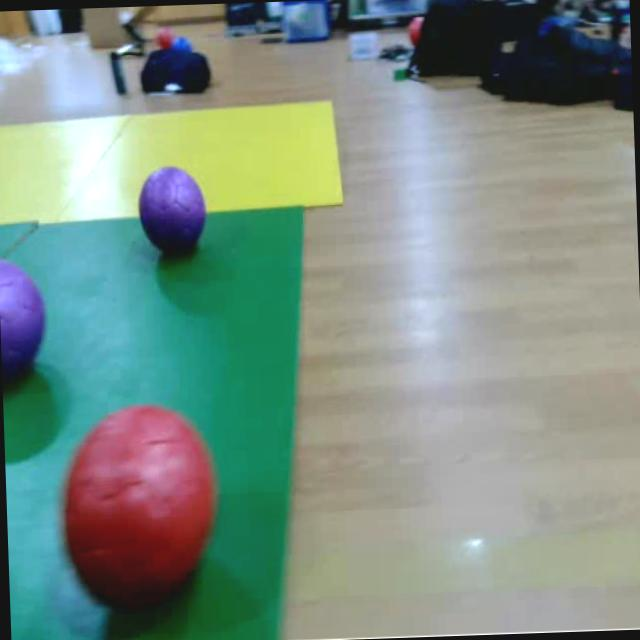purple_ball: (138, 164, 208, 254), (0, 259, 43, 377)
red_ball: (61, 400, 216, 608)
